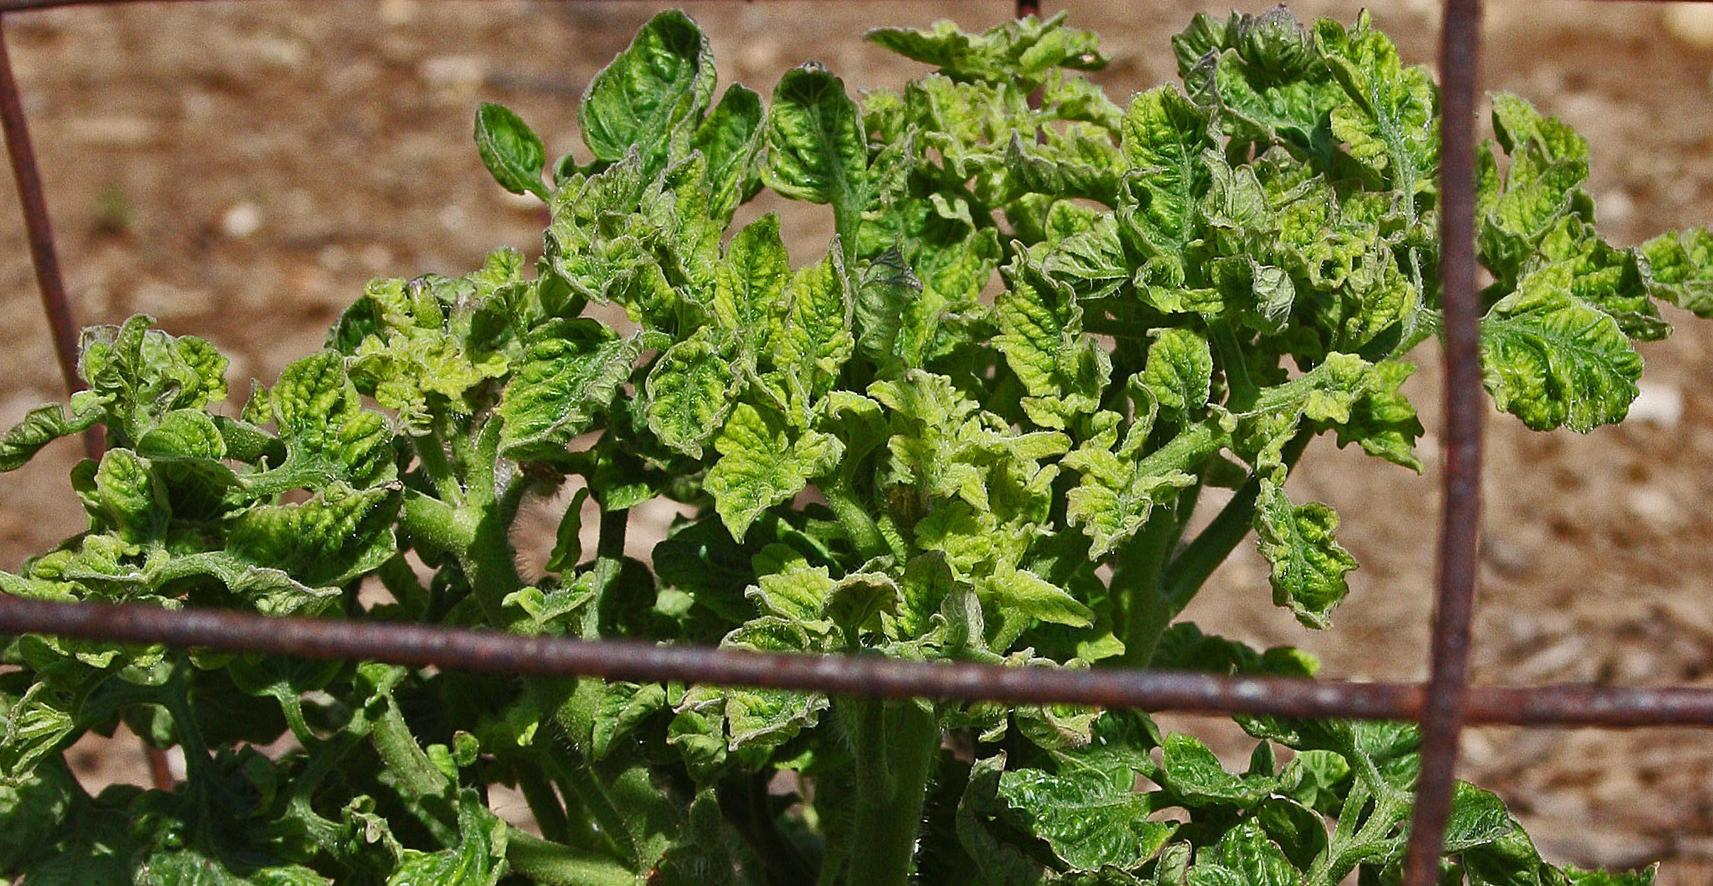Tomato leaf yellow virus: (1467, 286, 1652, 470), (556, 7, 749, 183), (173, 477, 405, 613), (986, 747, 1208, 886), (745, 36, 905, 221), (477, 318, 652, 474), (995, 241, 1108, 461), (1305, 21, 1431, 202), (1484, 114, 1612, 286), (1118, 84, 1231, 273), (635, 302, 763, 468), (699, 414, 835, 554), (1245, 474, 1360, 636), (873, 370, 993, 524), (1288, 347, 1425, 468), (714, 186, 792, 393), (769, 255, 866, 422), (1182, 788, 1341, 886), (753, 550, 905, 642), (373, 789, 505, 886), (256, 336, 377, 437), (1139, 327, 1241, 428), (1635, 215, 1713, 336), (981, 568, 1111, 639), (127, 403, 241, 474)
